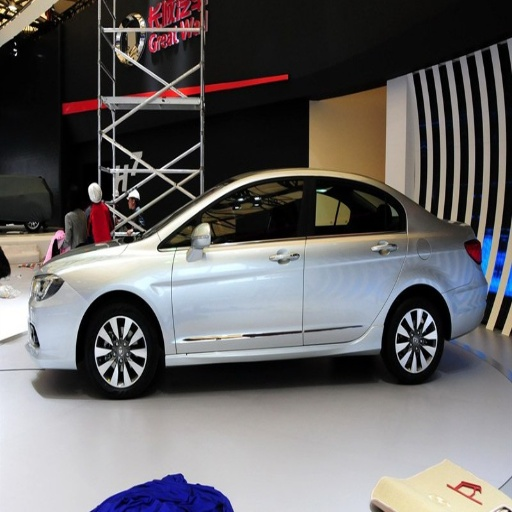back_left_door: (304, 176, 407, 344)
front_left_door: (176, 176, 307, 352)
